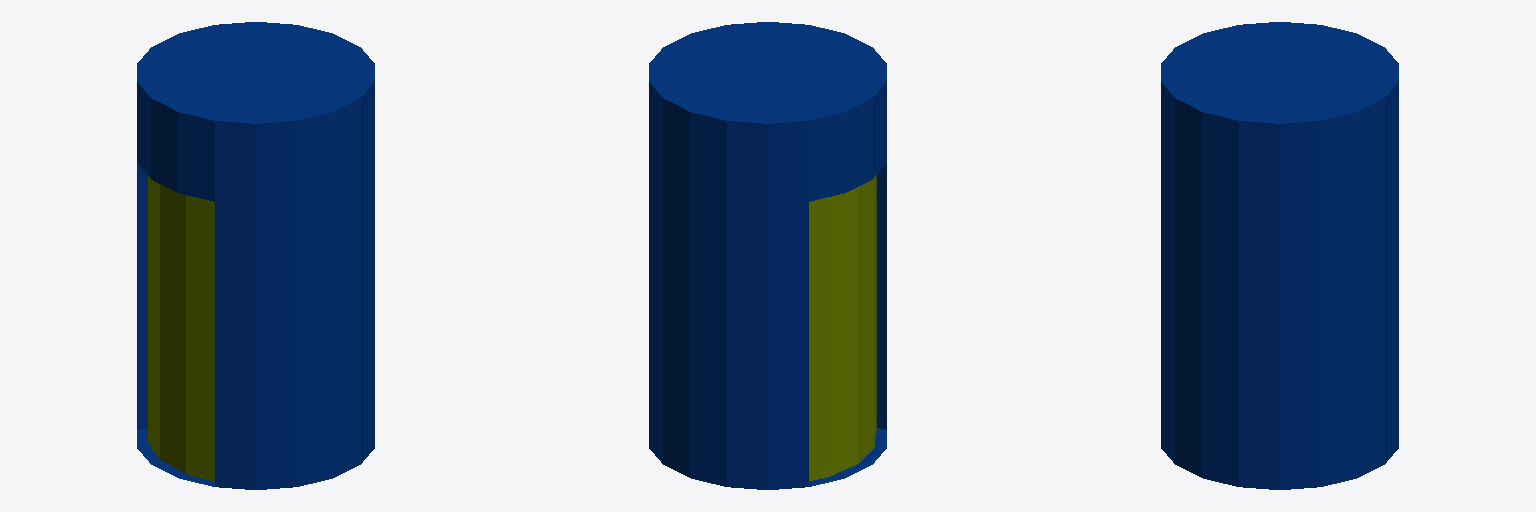
File: tardis.obj
3 renders of one model, left to right at view 1: azimuth 30°, elevation 25°; view 2: azimuth 150°, elevation 25°; view 3: azimuth 270°, elevation 25°, orthographic.
Parts seen in each view (by area): view 1: Cylinder001, Object001; view 2: Cylinder001, Object001; view 3: Cylinder001.
Boxes of the visible parts, x1,y1,x2,y2 form: Cylinder001: [137, 22, 374, 489]; Object001: [148, 176, 214, 481]; Cylinder001: [649, 22, 886, 489]; Object001: [809, 175, 876, 480]; Cylinder001: [1161, 22, 1398, 489].
Size of the model in its own units: 49.67 by 83.07 by 48.92.